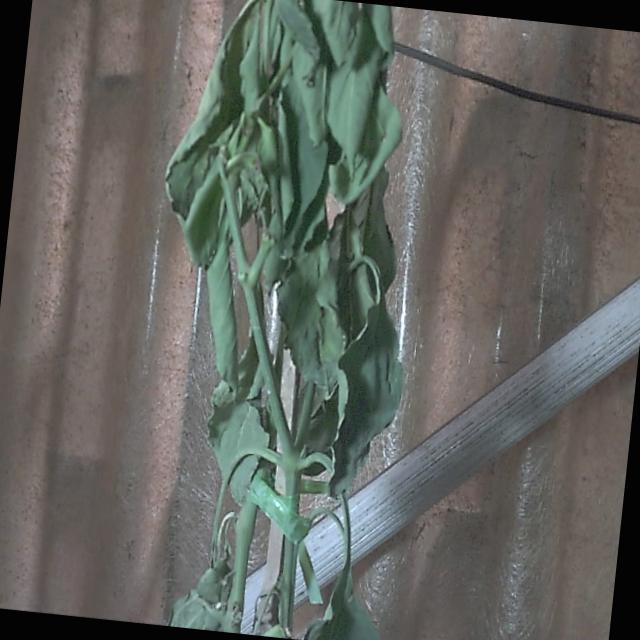Leaf: (329, 302, 403, 495), (327, 14, 383, 172), (328, 88, 401, 205), (208, 401, 268, 505), (311, 0, 354, 65), (274, 0, 319, 59)
